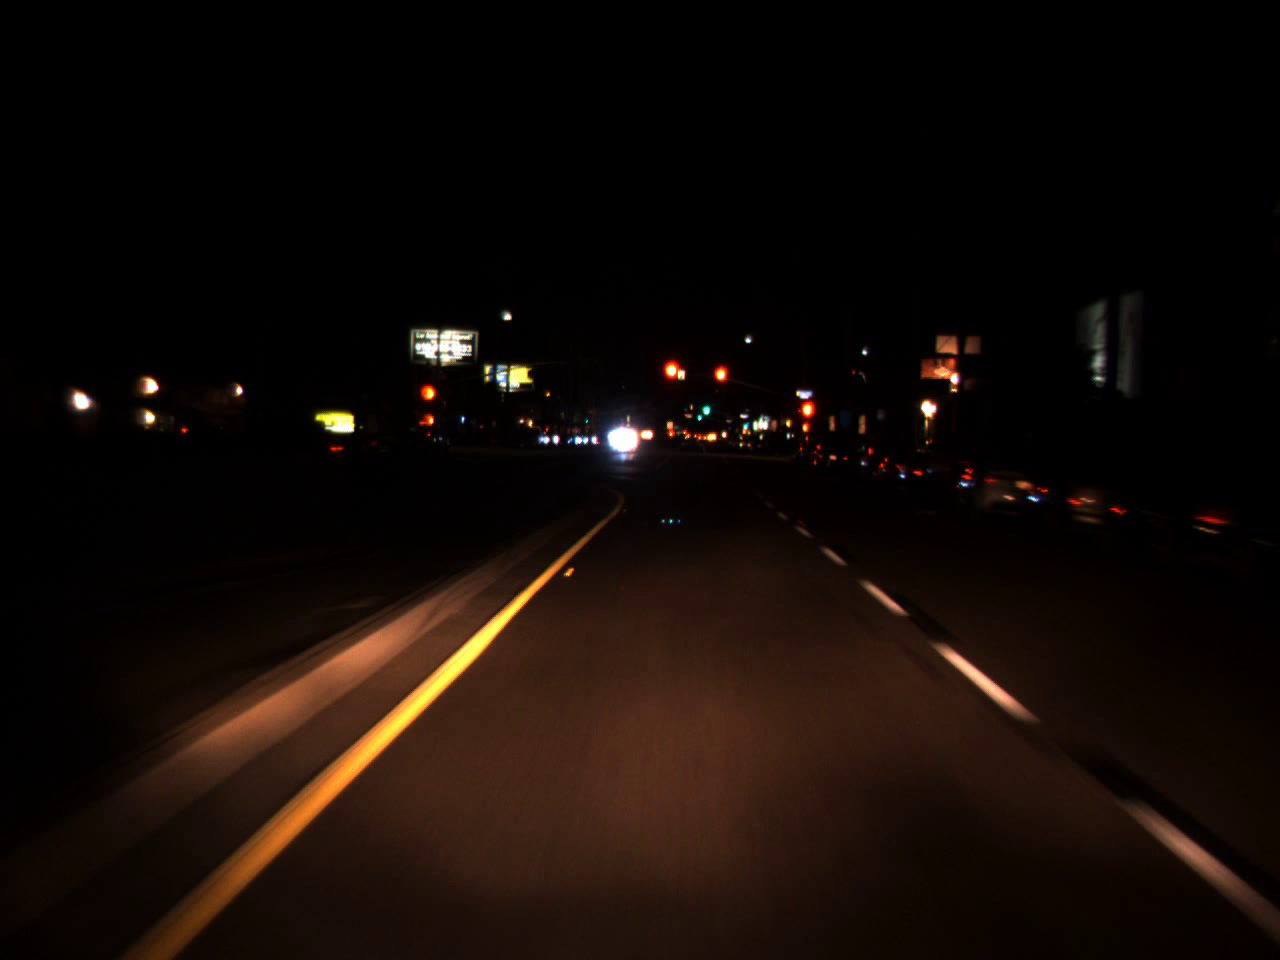go: (701, 398, 711, 416), (742, 418, 749, 430)
stop: (661, 358, 683, 401), (418, 382, 439, 419), (799, 398, 817, 441), (712, 363, 730, 403)
